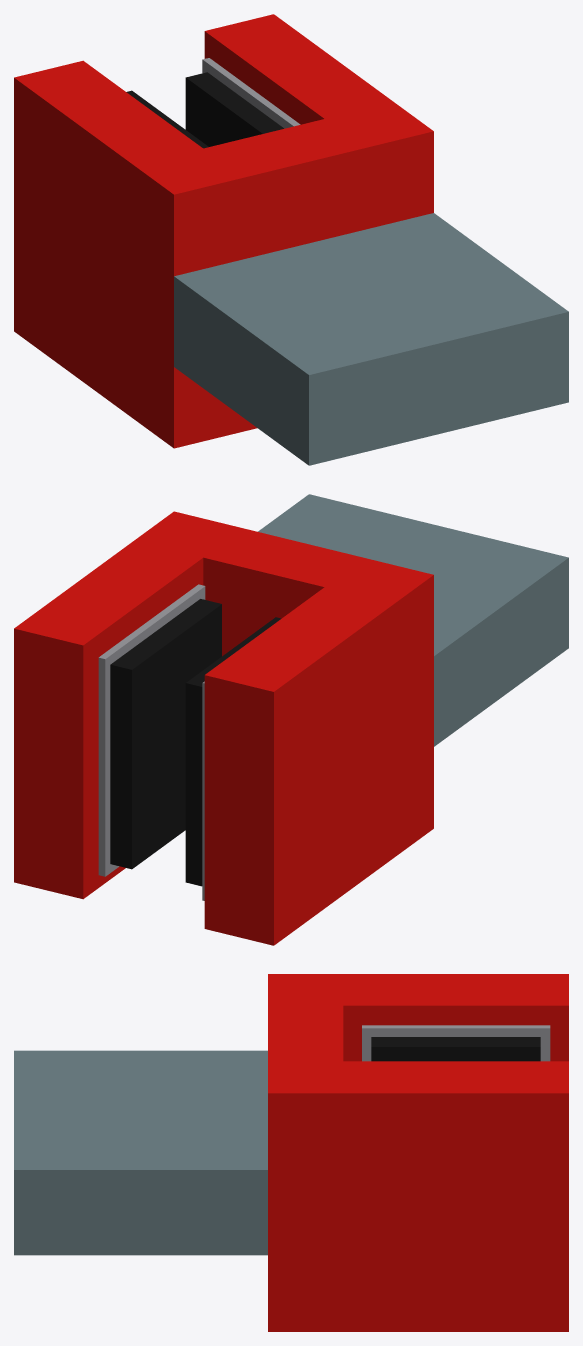
File: brake_caliper_ok.glb
3 renders of one model, top to bottom at view 1: azimuth 30°, elevation 25°; view 2: azimuth 150°, elevation 25°; view 3: azimuth 270°, elevation 25°, orthographic. The views are drawn at different scales.
Visible parts, largest first — view 1: brake_caliper_ok; view 2: brake_caliper_ok; view 3: brake_caliper_ok.
Part boxes in pixels (<box>): brake_caliper_ok: <box>14,14,568,465</box>; brake_caliper_ok: <box>14,494,568,945</box>; brake_caliper_ok: <box>14,974,568,1331</box>.
Size of the model in its own units: 0.3 by 0.28 by 0.59.
